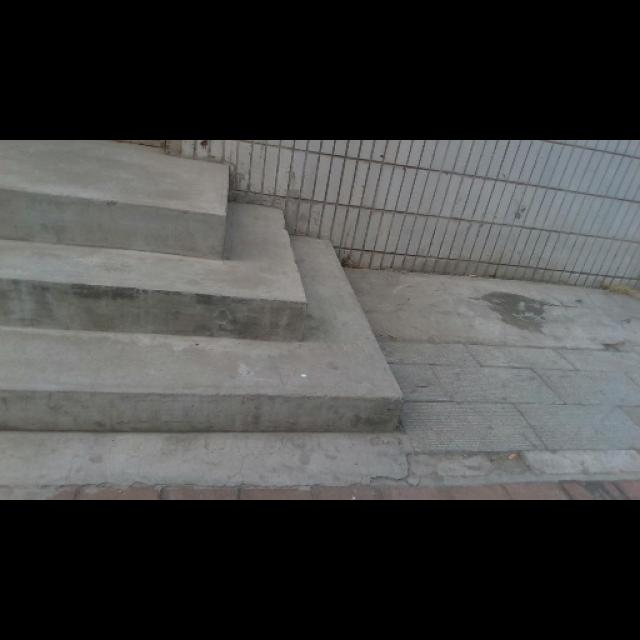Stairs: (0, 139, 410, 495)
